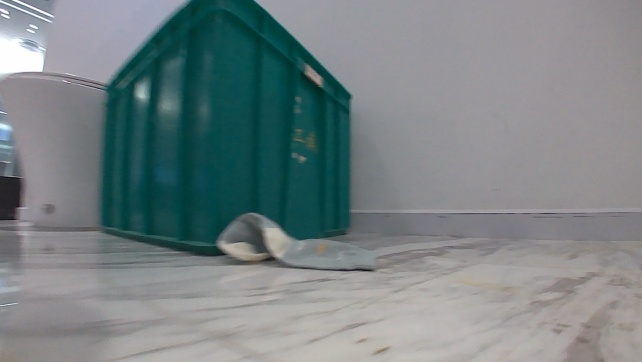socks: (212, 207, 379, 273)
toilet: (0, 65, 112, 234)
